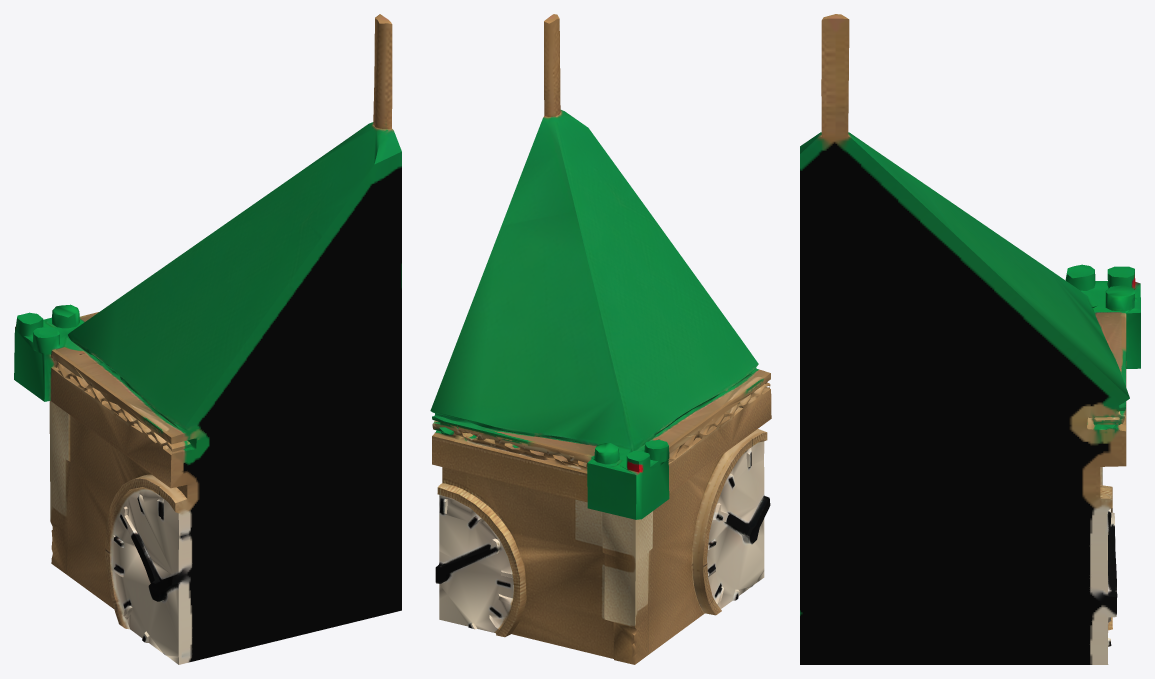
The model's file is 15-topper-back-left.fbx.
3 views of the same model, side by side, from view 1: azimuth 30°, elevation 25°; view 2: azimuth 150°, elevation 25°; view 3: azimuth 270°, elevation 25° (orthographic). The views are drawn at different scales.
Parts seen in each view (by area): view 1: topper-back-left; view 2: topper-back-left; view 3: topper-back-left.
Part boxes in pixels (left/top/right/bottom): topper-back-left: left=14, top=14, right=401, bottom=664; topper-back-left: left=430, top=14, right=771, bottom=664; topper-back-left: left=800, top=14, right=1140, bottom=664.
Bounding box in the file's own units: 5196 × 11968 × 5720.
Materials: 1 (1 with a texture image).
